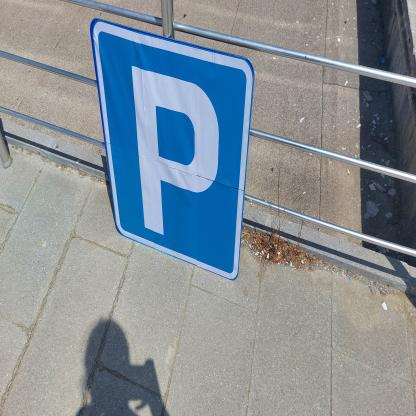Parking-Sign: (91, 15, 257, 279)
